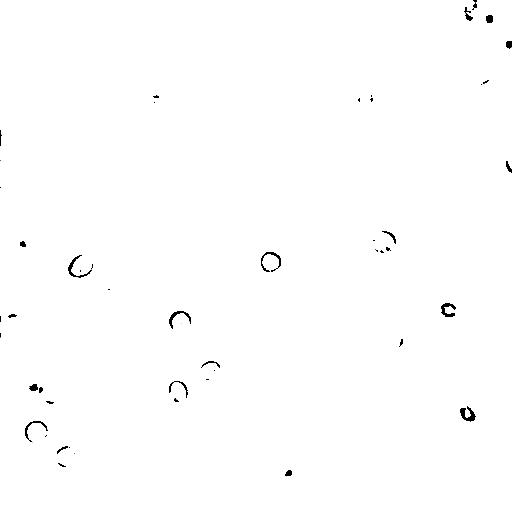micro-algae: (93, 398, 143, 439), (84, 272, 127, 312), (16, 367, 57, 407), (470, 1, 505, 35), (219, 241, 253, 275), (273, 454, 305, 488), (301, 353, 339, 381), (467, 76, 503, 105), (184, 282, 217, 313), (22, 417, 51, 447), (165, 307, 195, 336), (418, 384, 447, 414), (400, 245, 425, 279), (65, 251, 95, 278), (369, 228, 396, 255), (39, 381, 67, 407), (381, 328, 407, 353), (155, 0, 201, 14), (167, 378, 191, 404), (196, 359, 223, 382), (53, 444, 79, 467), (260, 249, 283, 274), (1, 311, 23, 337), (143, 267, 169, 287), (357, 83, 377, 106), (12, 231, 32, 253), (462, 0, 484, 20), (498, 28, 511, 61), (437, 301, 459, 317), (460, 405, 478, 423), (505, 149, 512, 174), (2, 128, 5, 144)
